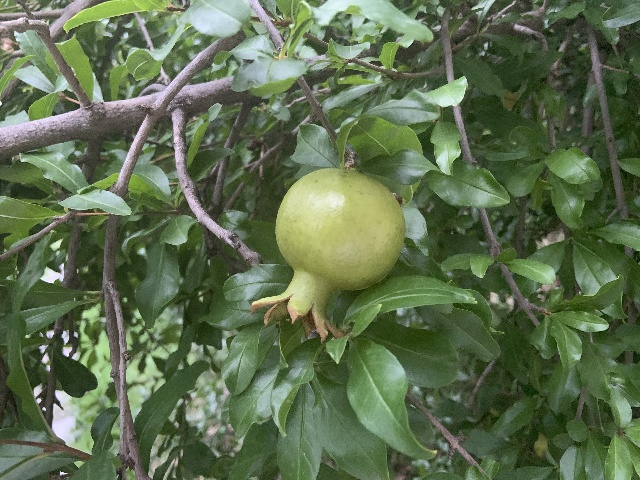mid-growth: (250, 167, 405, 343)
